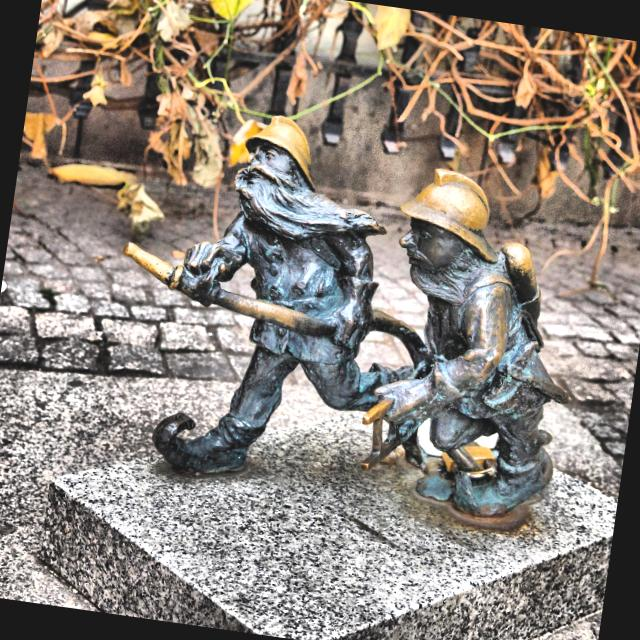Pozarki: (124, 119, 571, 518)
